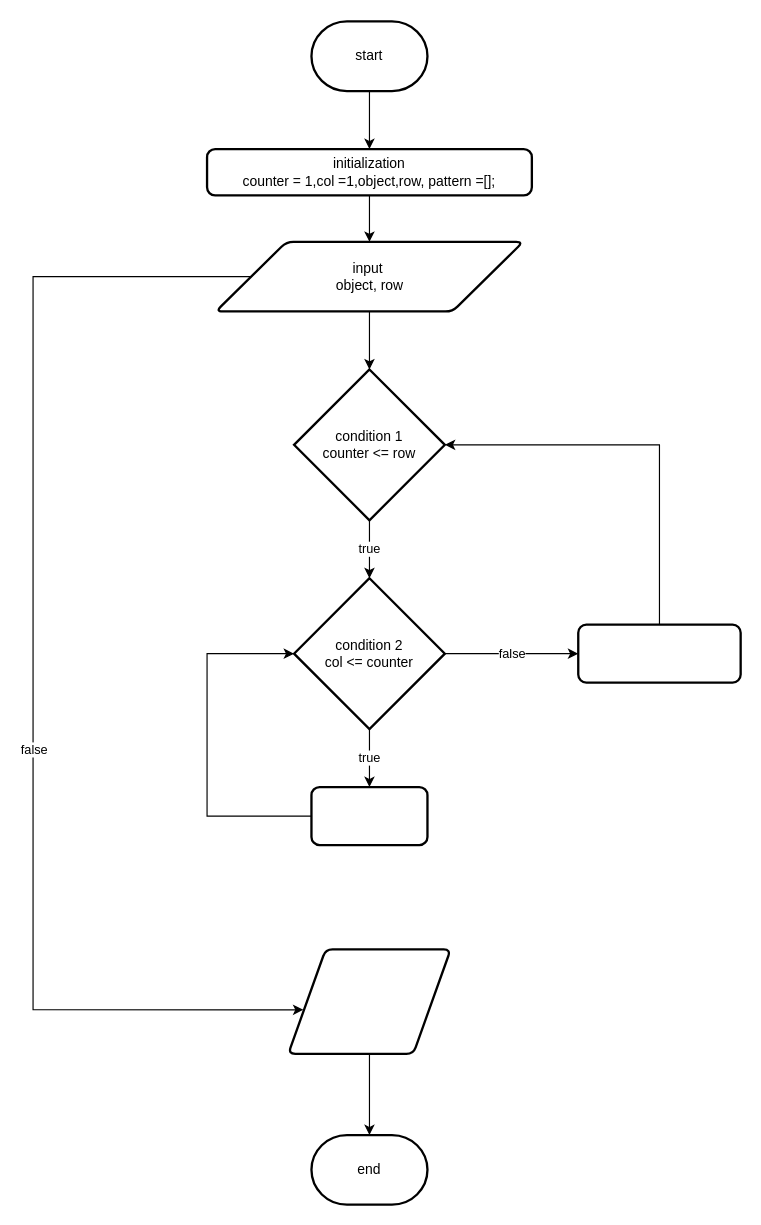
Image size: 761x1225. Some labels were removed from this diagram. Each missing label, with the centre of its shape:
- "<br>" push to pattern -increment counter: (659,653)
- object push to pattern - increment col: (369,815)
output pattern: (369,1001)
